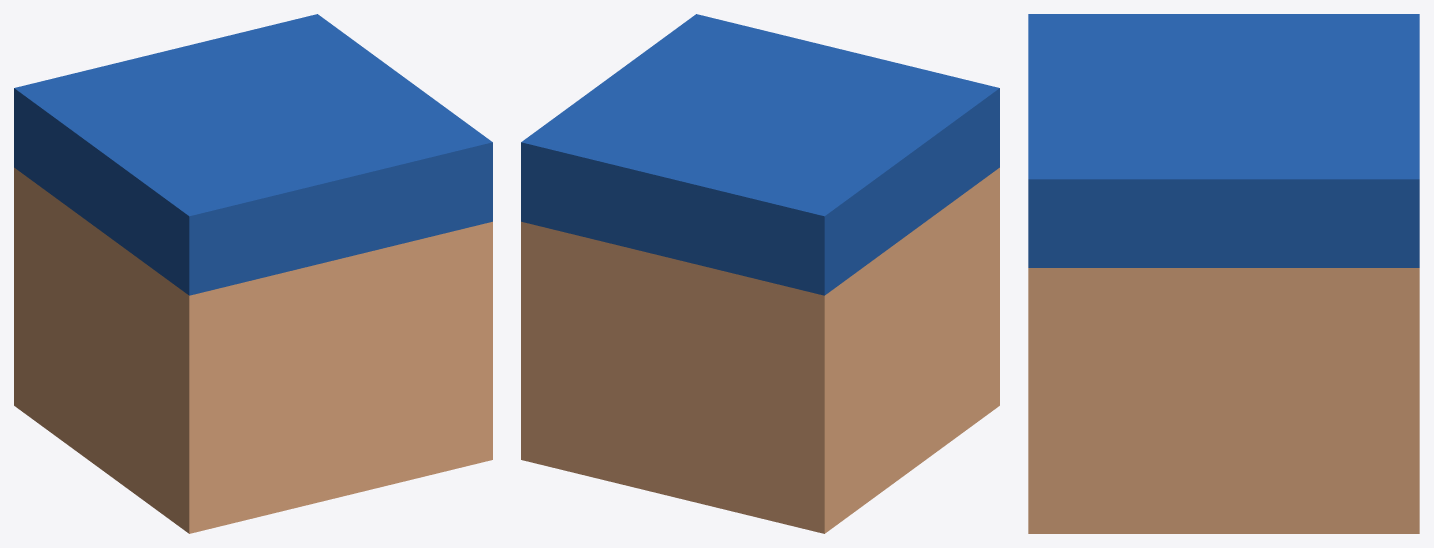
File: sand-block-with-water.glb
3 renders of one model, left to right at view 1: azimuth 30°, elevation 25°; view 2: azimuth 150°, elevation 25°; view 3: azimuth 270°, elevation 25°, orthographic. The views are drawn at different scales.
Parts seen in each view (by area): view 1: generated(Clone); view 2: generated(Clone); view 3: generated(Clone).
Boxes of the visible parts, left/top/right/bottom form: generated(Clone): left=14, top=14, right=492, bottom=533; generated(Clone): left=521, top=14, right=999, bottom=533; generated(Clone): left=1028, top=14, right=1419, bottom=533.
Bounding box in the file's own units: 8 × 8 × 8.
1 material, 1 textured.
